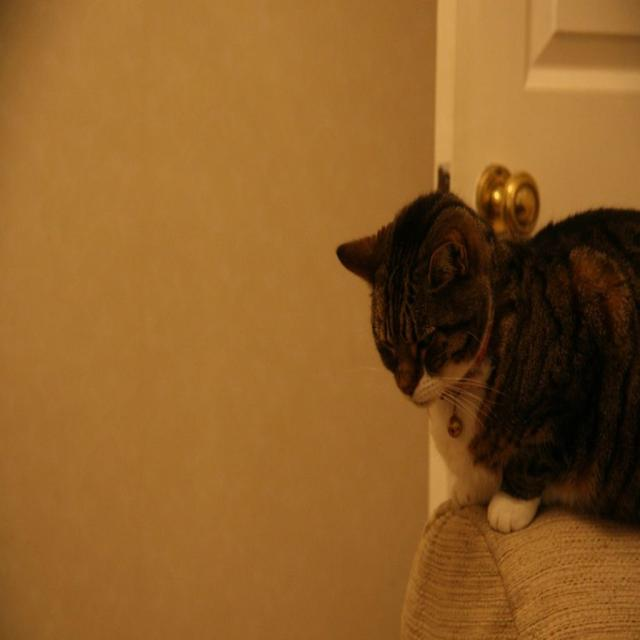Cat: (332, 181, 639, 534)
